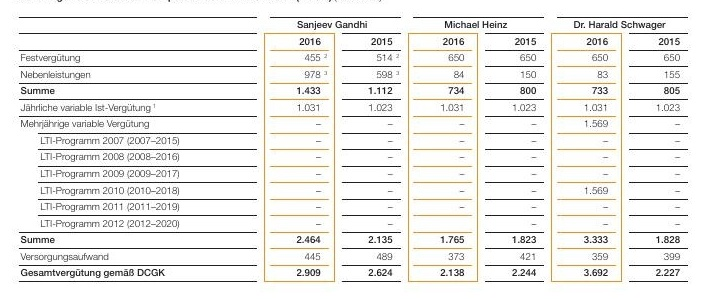table: (0, 0, 708, 299)
